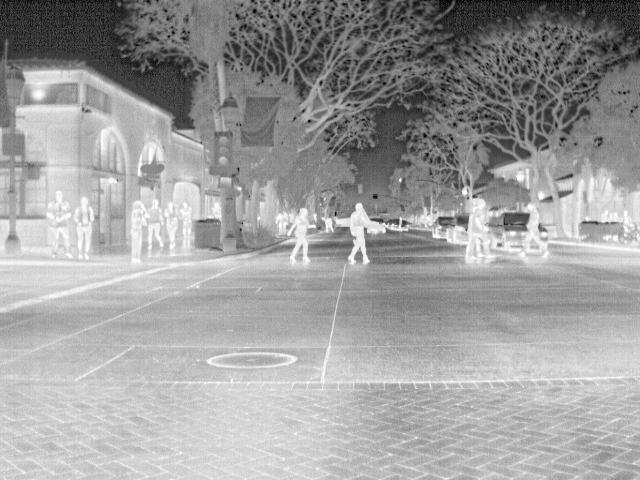car: (489, 210, 531, 252), (446, 212, 474, 246), (432, 216, 455, 240), (366, 216, 389, 234), (535, 224, 551, 243), (391, 218, 410, 232)
person: (48, 190, 76, 258), (345, 200, 373, 262), (285, 207, 316, 263), (75, 195, 98, 261), (477, 197, 499, 261), (462, 200, 482, 262), (128, 200, 146, 262), (144, 199, 162, 249), (164, 200, 179, 248), (180, 200, 193, 237)
